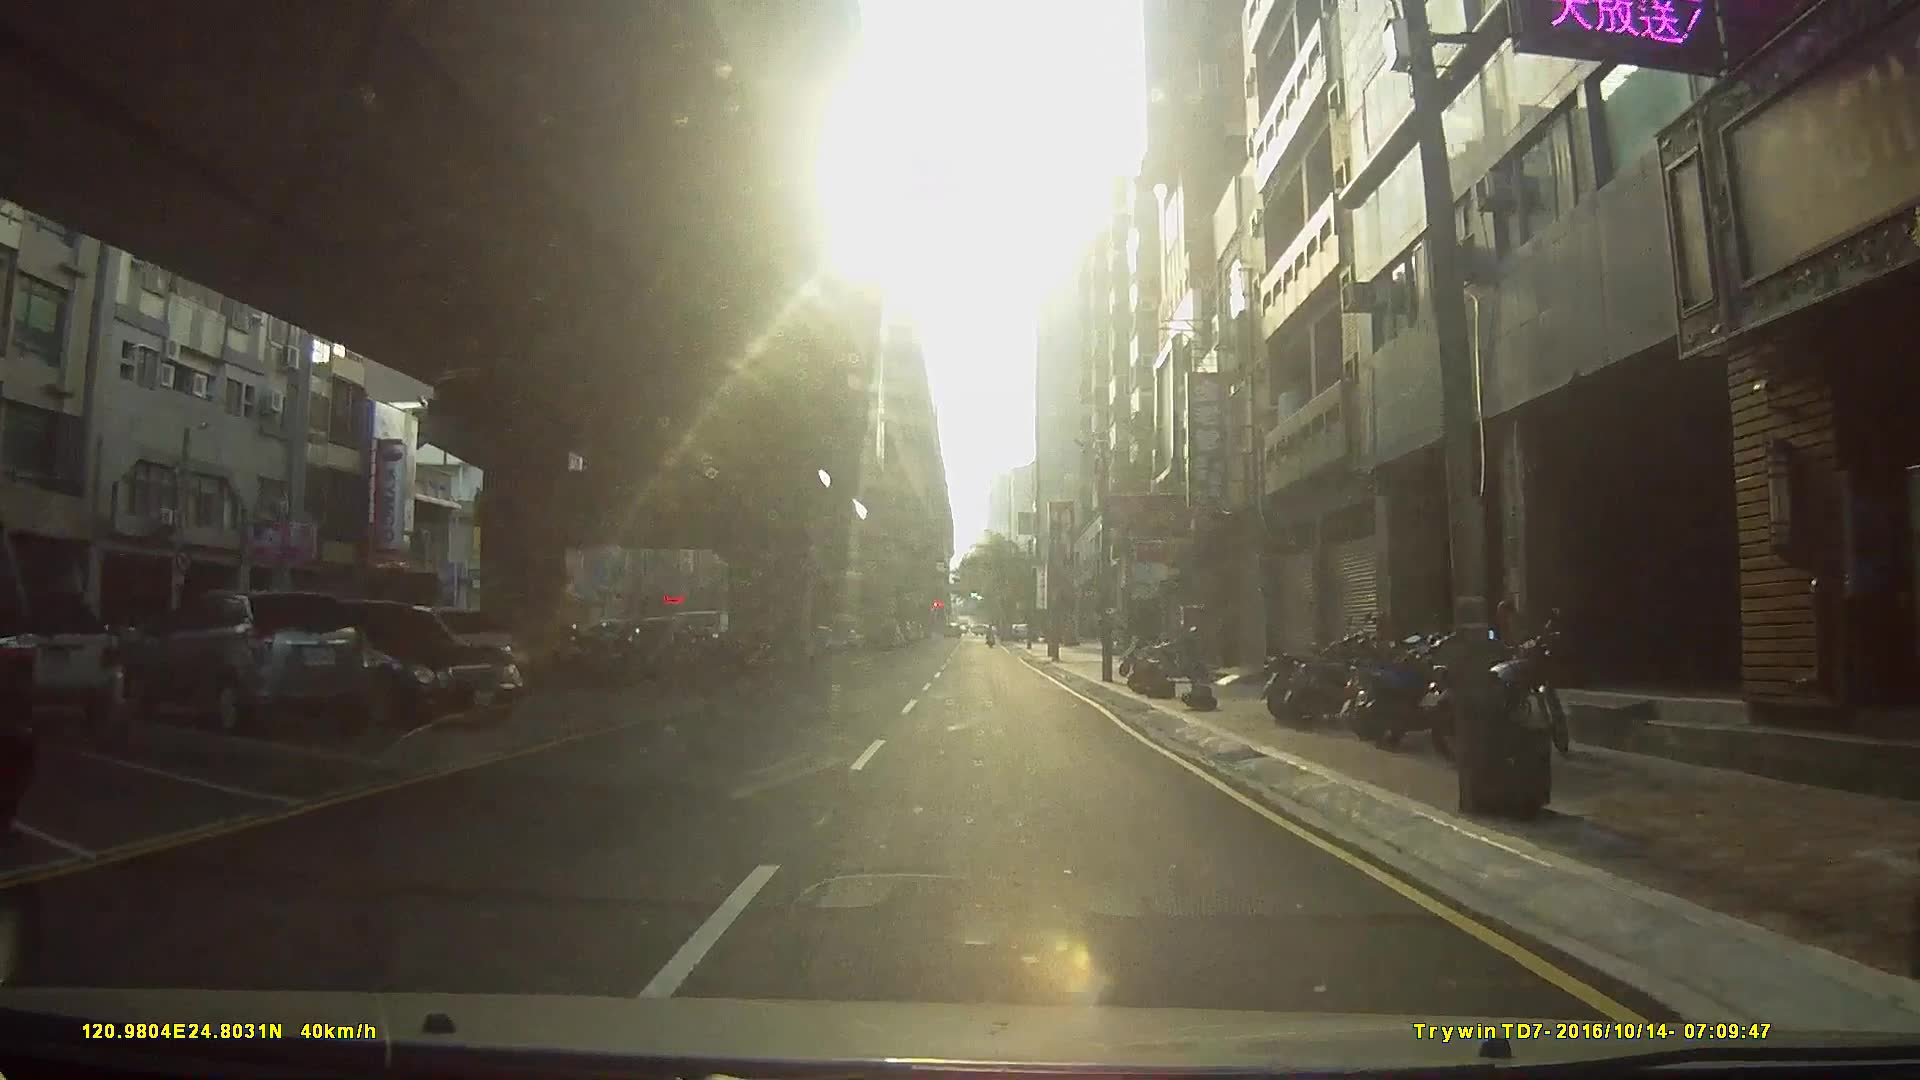vehicle: (117, 587, 369, 736), (266, 600, 525, 727), (0, 587, 117, 727)
